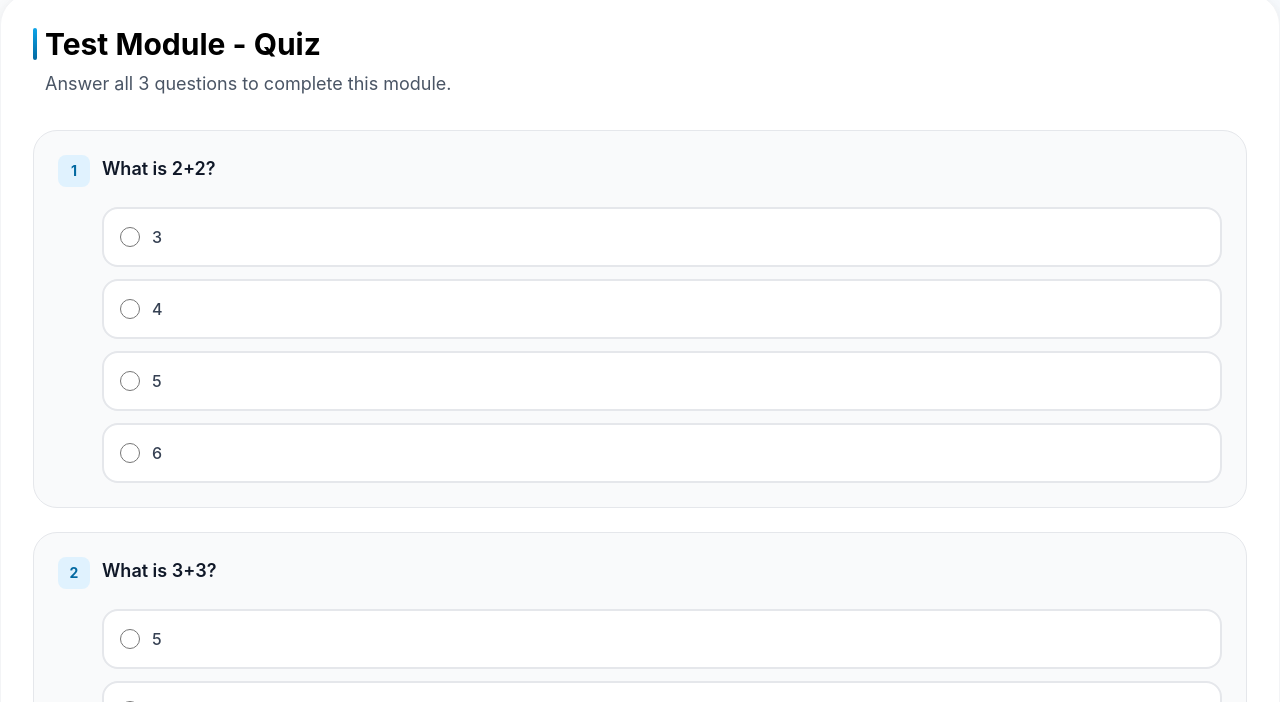
it: Quiz Component › should handle quiz submission error
Expected: the heading "Test Module - Quiz" is shown, [33,26,321,62]
# Answer all questions
Click the radio button labelled "4": [130, 309] box [120,299,140,319]
(page scrolled)
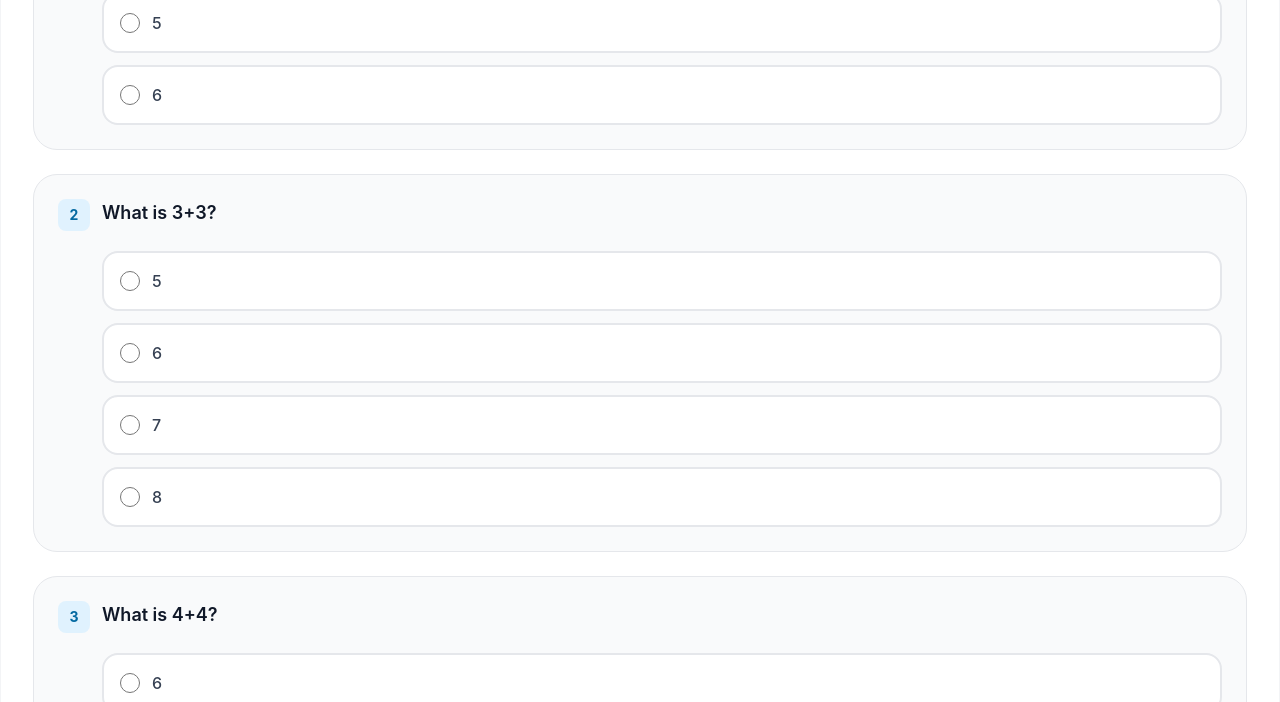
Click the radio button labelled "6" below "What is 3+3?": [130, 353] box [120,343,140,363]
(page scrolled)
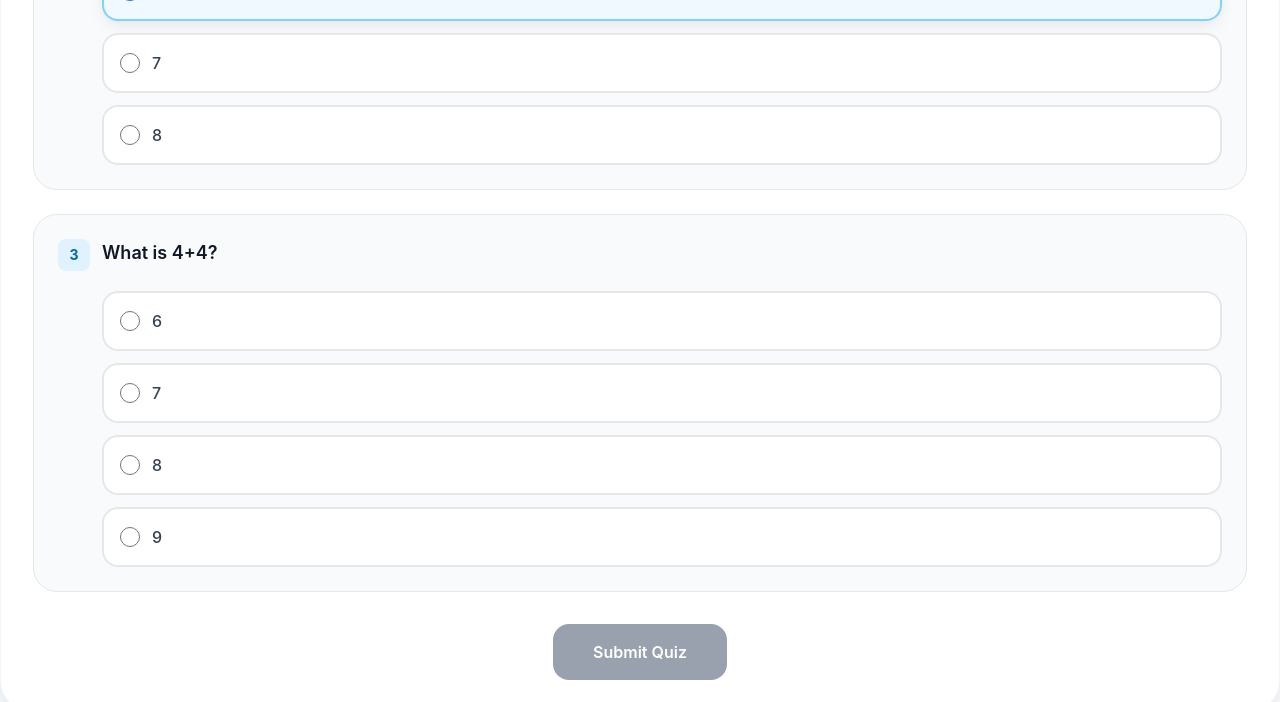
Click the radio button labelled "8" below "What is 4+4?": [130, 465] box [120,455,140,475]
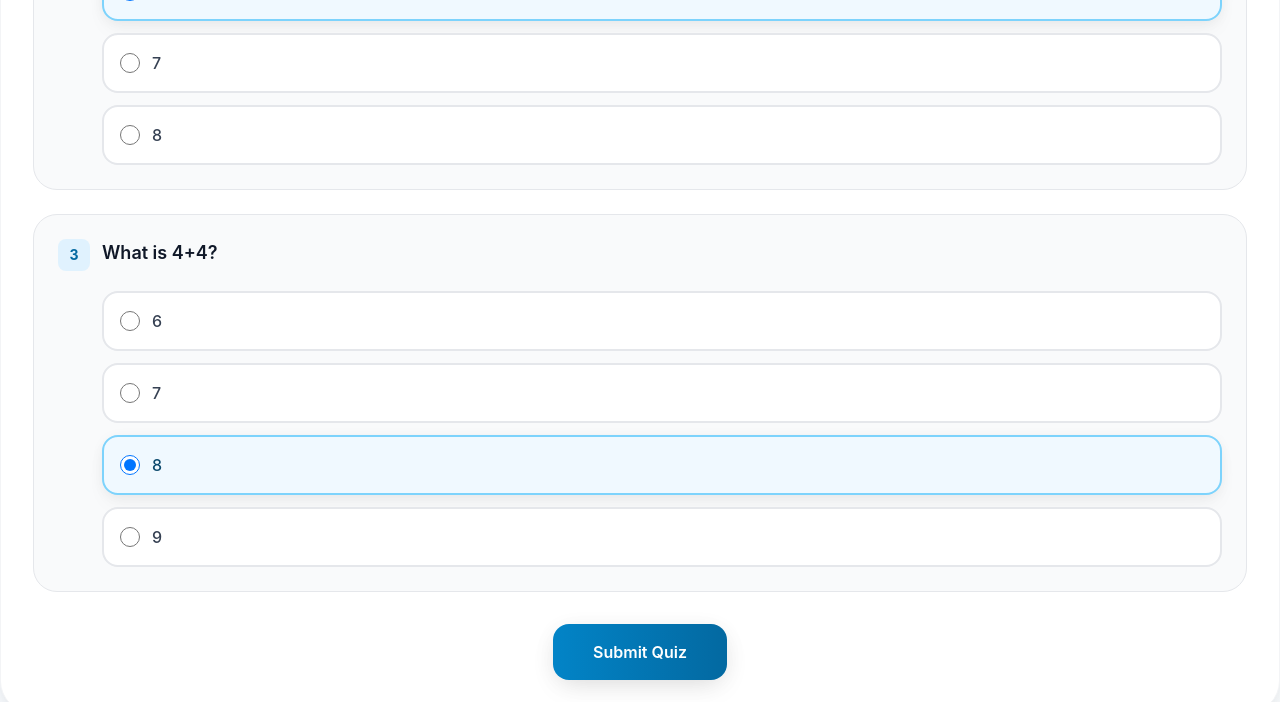
Click the button "Submit Quiz": [640, 652] box [553,624,727,680]
(page scrolled)
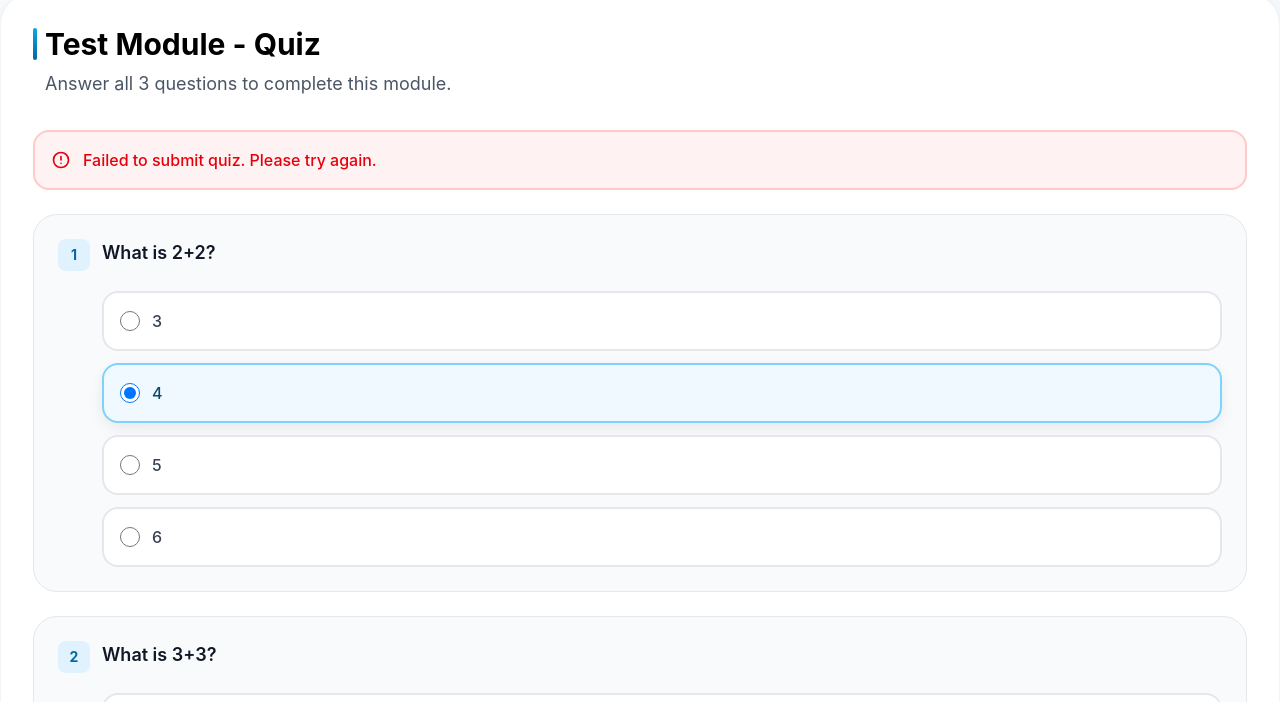
Result: the text "Failed to submit quiz. Please try again." is shown at [83,148,377,172]
